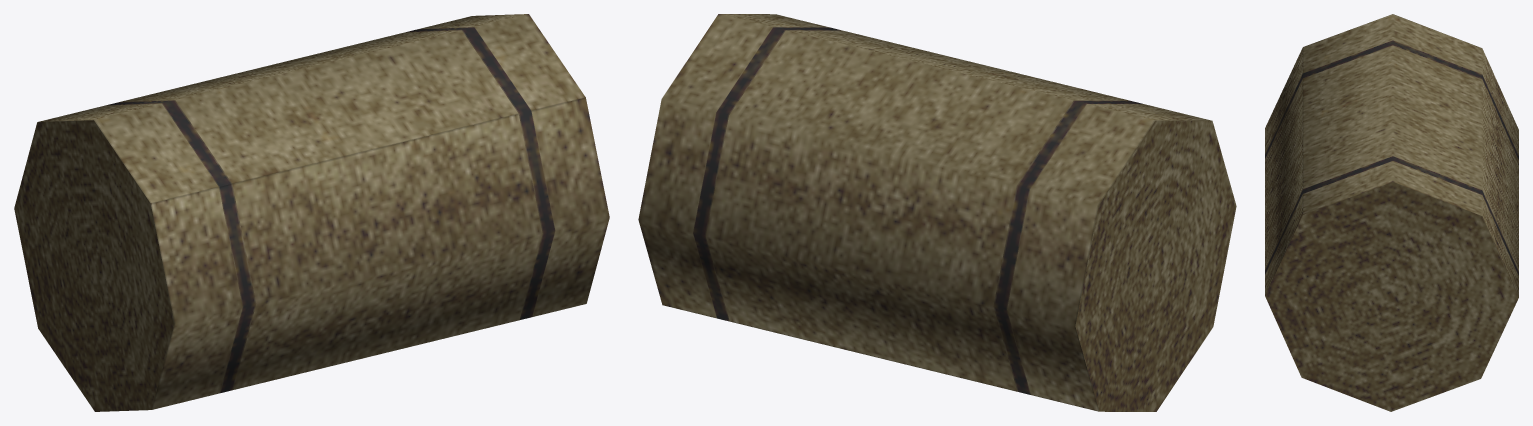
File: SM_EC_Hay_2.fbx
3 renders of one model, left to right at view 1: azimuth 30°, elevation 25°; view 2: azimuth 150°, elevation 25°; view 3: azimuth 270°, elevation 25°, orthographic. The views are drawn at different scales.
Parts seen in each view (by area): view 1: SM_EC_Hay_2; view 2: SM_EC_Hay_2; view 3: SM_EC_Hay_2.
Boxes of the visible parts, left/top/right/bottom form: SM_EC_Hay_2: left=14, top=14, right=609, bottom=411; SM_EC_Hay_2: left=638, top=14, right=1236, bottom=411; SM_EC_Hay_2: left=1265, top=14, right=1518, bottom=411.
Bounding box in the file's own units: 2.5 × 1.6 × 1.6.
